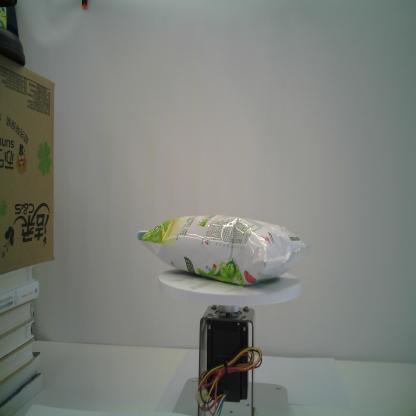Puffed Food: (137, 213, 310, 287)
